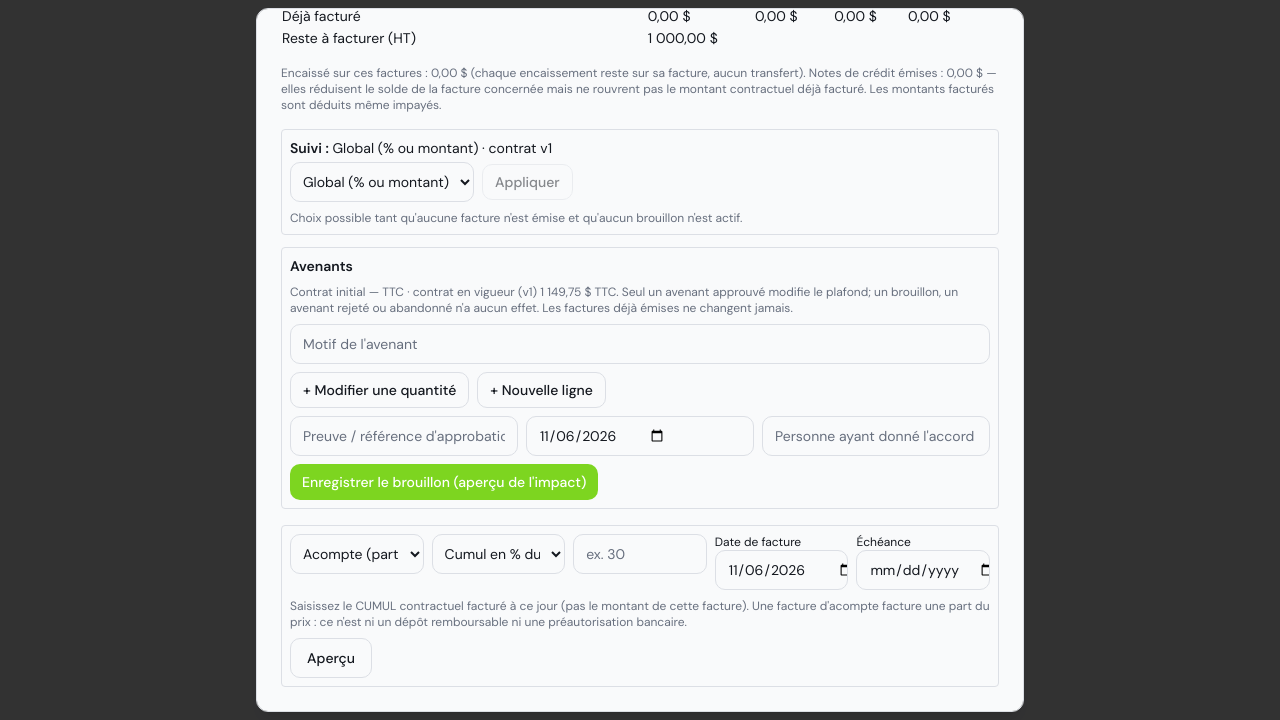
it: FIN-09B1 relecture — formulaire et contexte › saisie bloquée pendant l'aperçu en attente : l'aperçu reçu correspond au cumul envoyé
The image size is (1280, 720).
(page scrolled)
Type "30" into the field named "Cumul contractuel".
click(640, 554); type("30")  # box [573, 534, 707, 574]
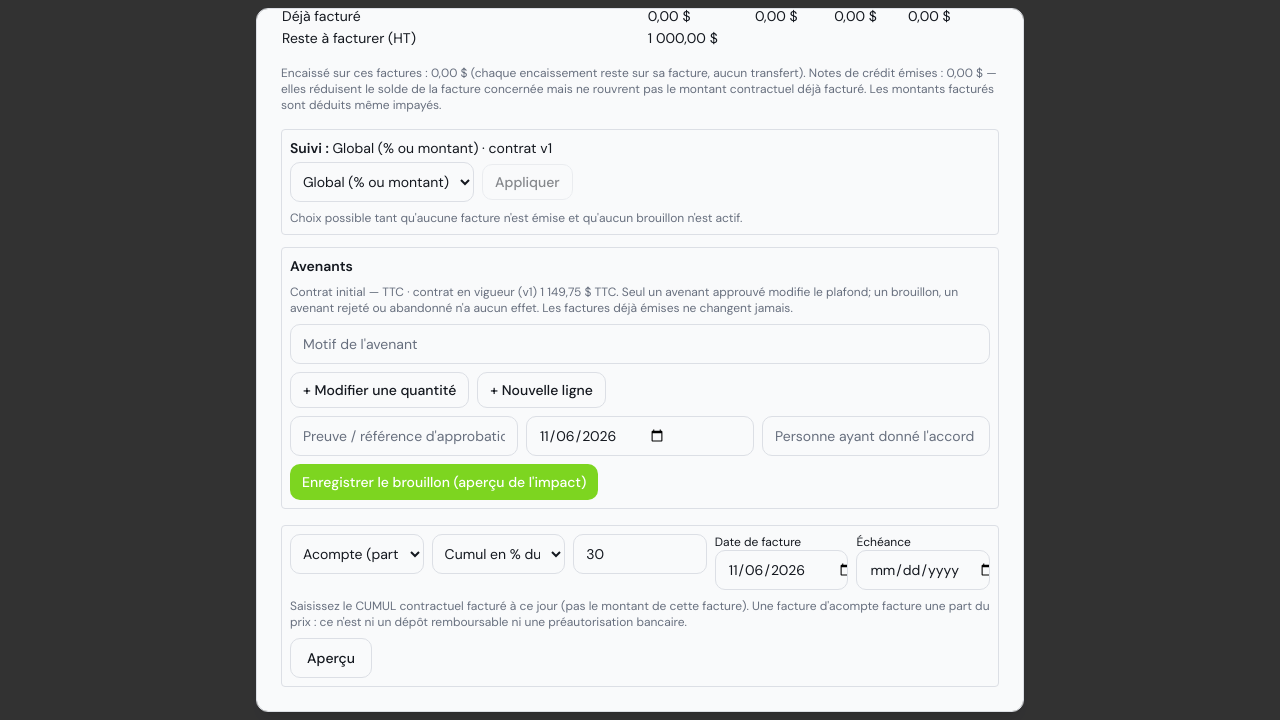
Click the button "Aperçu".
click(331, 658)  # box [290, 638, 372, 678]
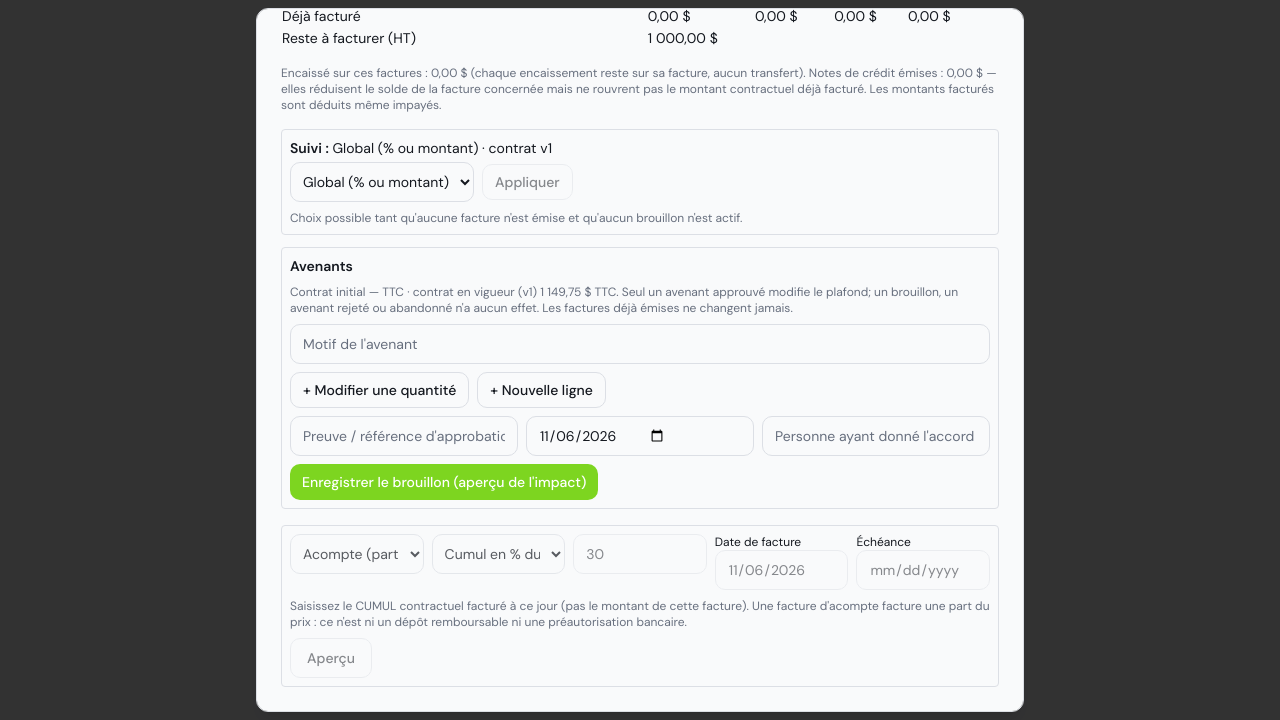
Now the element named "Cumul contractuel" is disabled, box [290, 534, 990, 590]
Replace the text in the field named "Cumul contractuel" with "90" at (640, 554), box [573, 534, 707, 574]
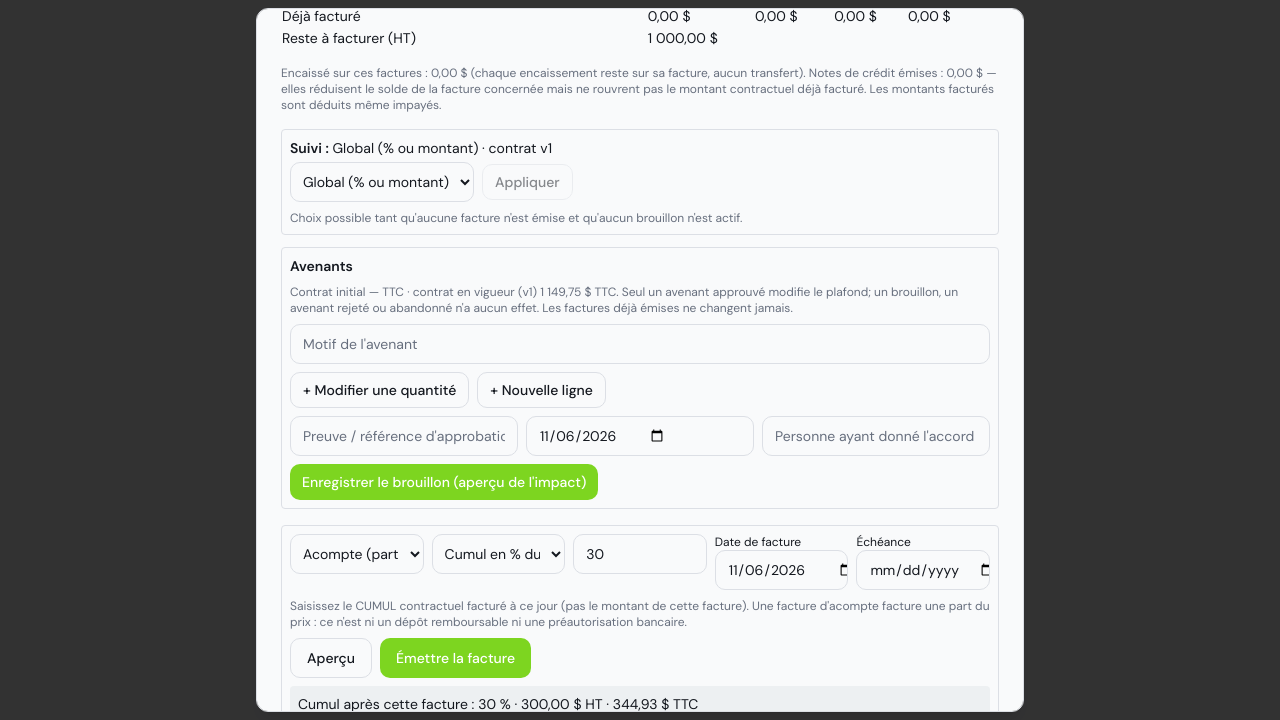
Now the button "Émettre la facture" is shown, box [380, 638, 531, 678]
